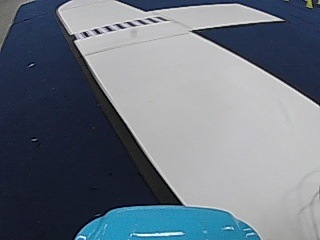CrossWalk: (77, 15, 167, 43)
